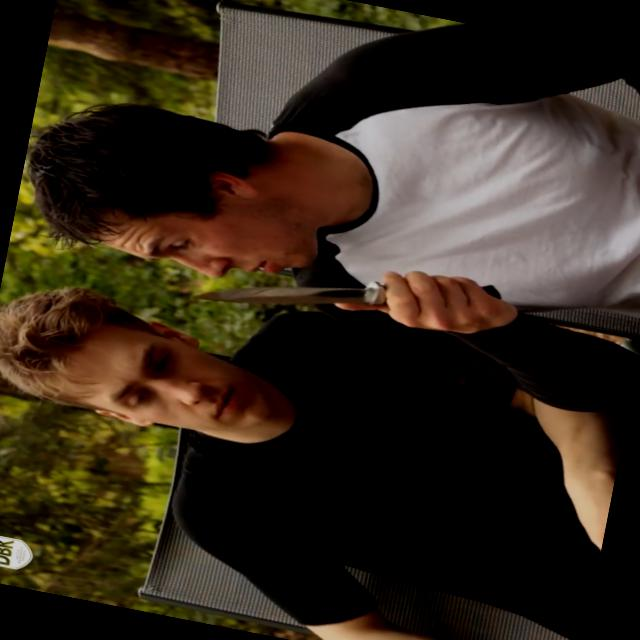knife: (178, 218, 515, 363)
